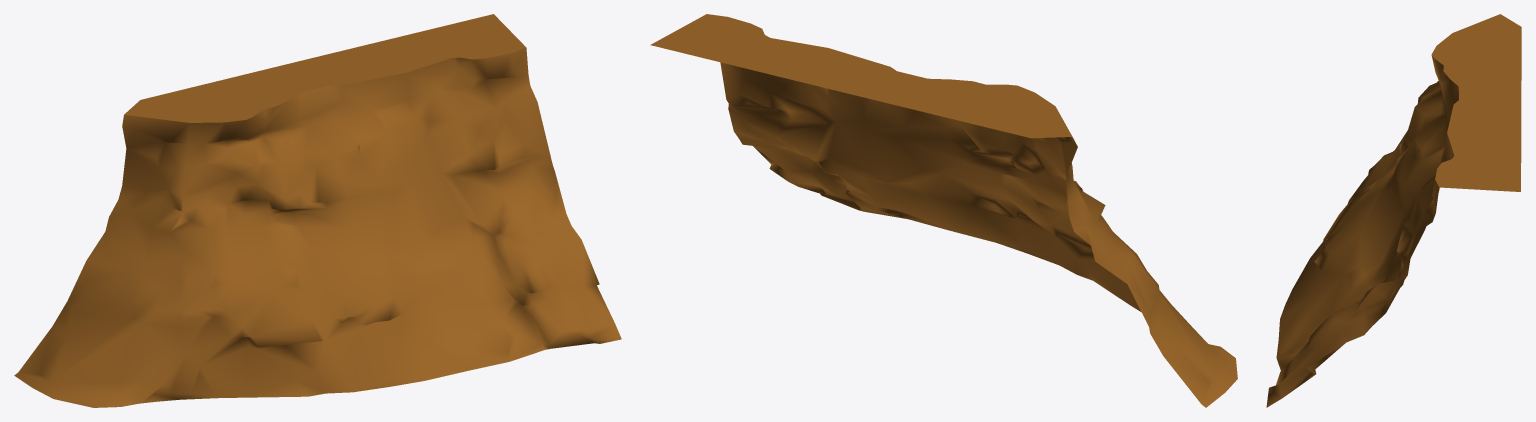
File: Cliff_Wall04.FBX
3 views of the same model, side by side, from view 1: azimuth 30°, elevation 25°; view 2: azimuth 150°, elevation 25°; view 3: azimuth 270°, elevation 25° (orthographic). The views are drawn at different scales.
Visible parts, largest first — view 1: Cliff_Wall04; view 2: Cliff_Wall04; view 3: Cliff_Wall04.
Boxes of the visible parts, box(x1,y1,x2,y2) form: Cliff_Wall04: box(14, 14, 621, 407); Cliff_Wall04: box(650, 14, 1237, 407); Cliff_Wall04: box(1266, 14, 1521, 407).
Bounding box in the file's own units: 3859 × 1690 × 1787.
